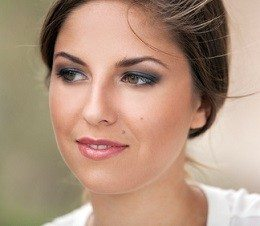mole: (118, 127, 128, 137)
